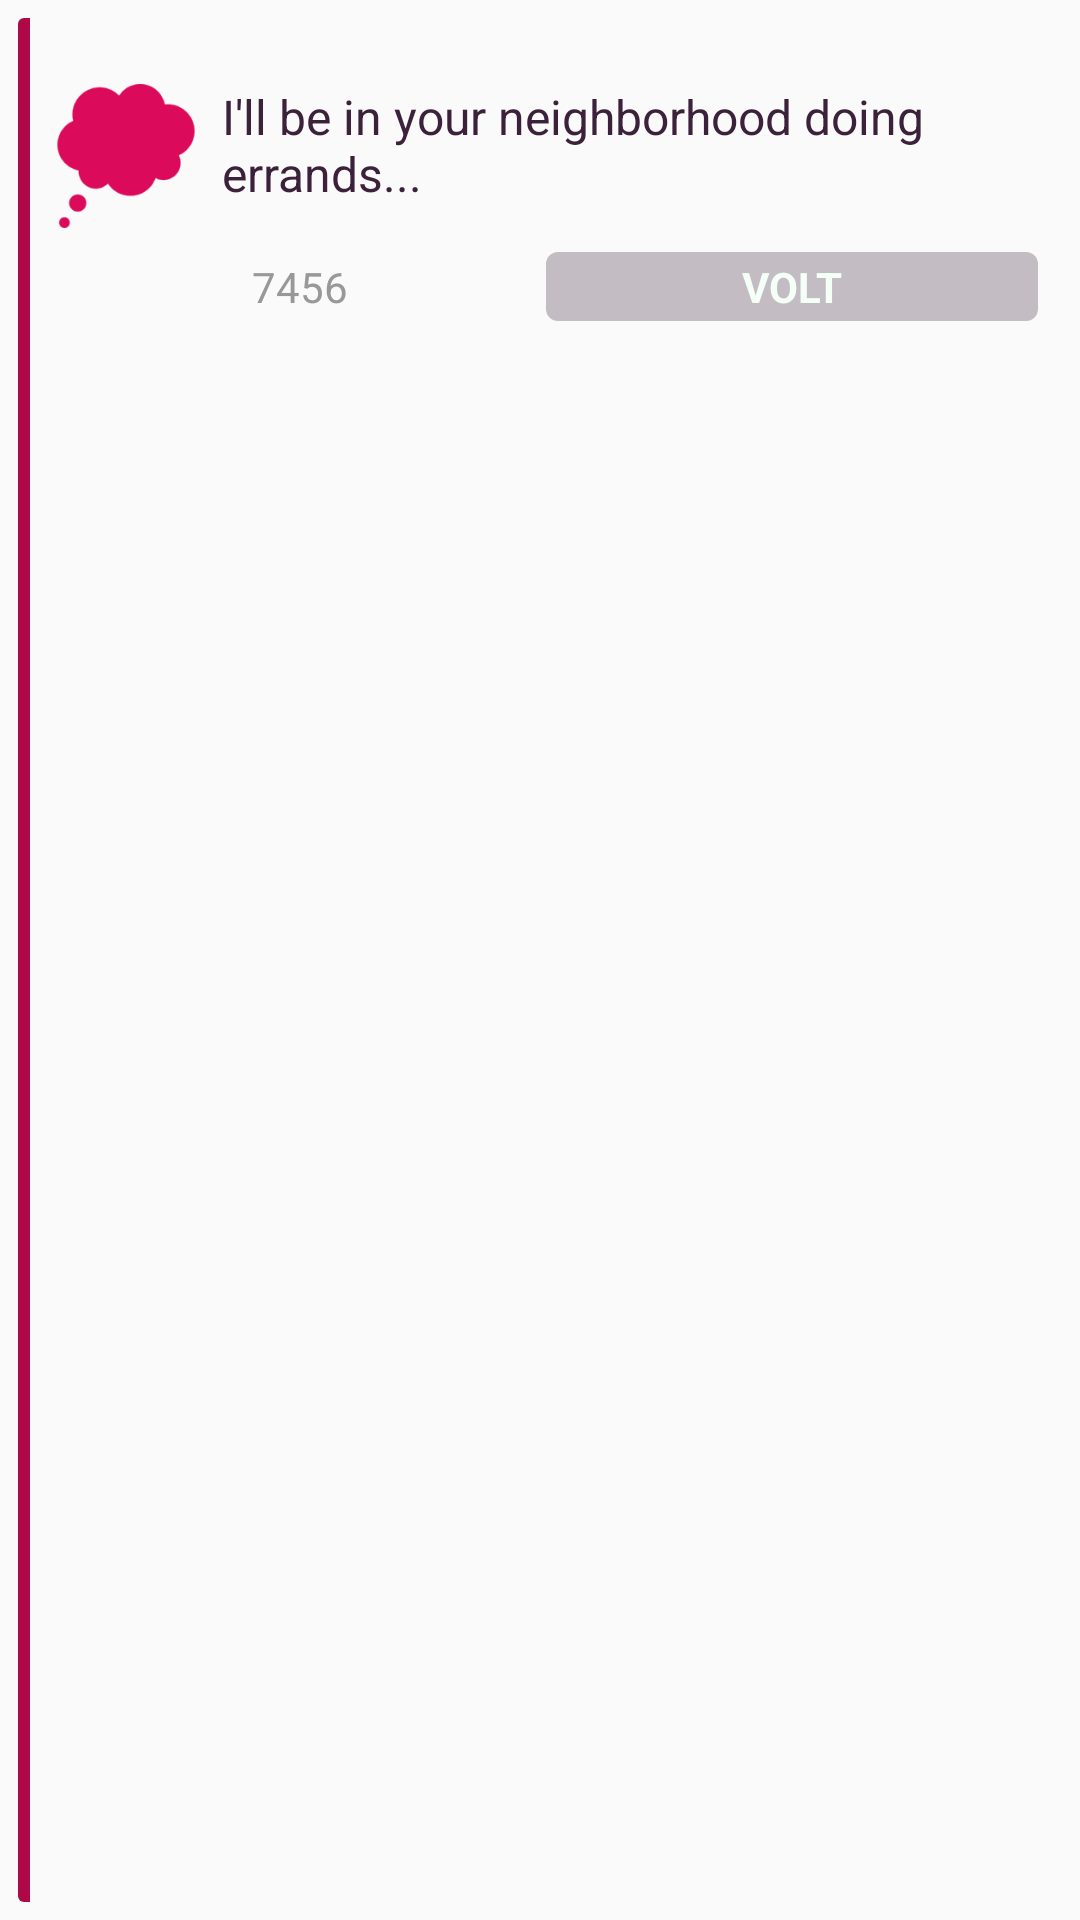

Named icons in this screenshot (1080px×1920px) and their centers, (x=x, y=y):
post thought: (x=126, y=156)
